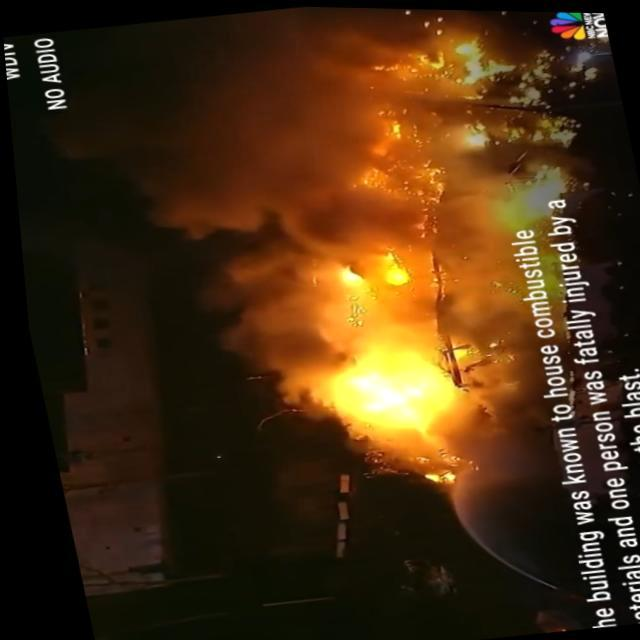fire: (321, 25, 515, 206), (294, 210, 442, 340), (424, 188, 526, 372), (316, 329, 464, 446), (488, 108, 576, 215), (517, 604, 565, 632)
